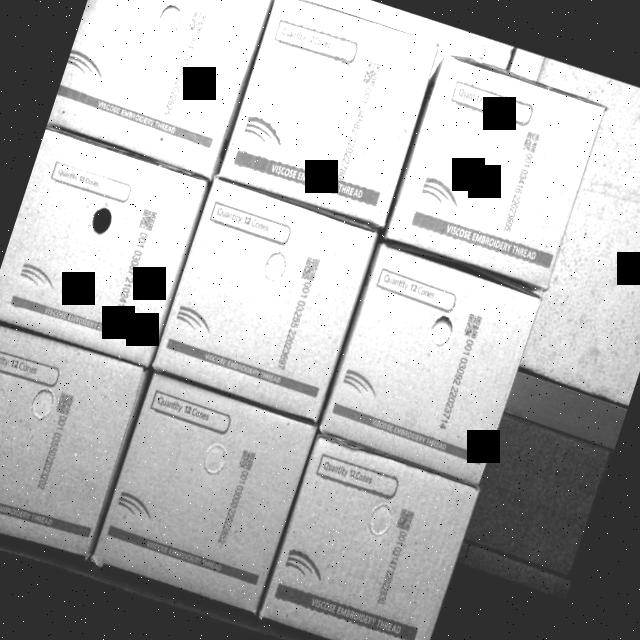box: (153, 179, 376, 422), (95, 374, 316, 612), (388, 51, 611, 286), (319, 248, 542, 482), (218, 0, 442, 226), (0, 130, 207, 365), (258, 433, 481, 640), (47, 0, 273, 177), (0, 318, 146, 561)
